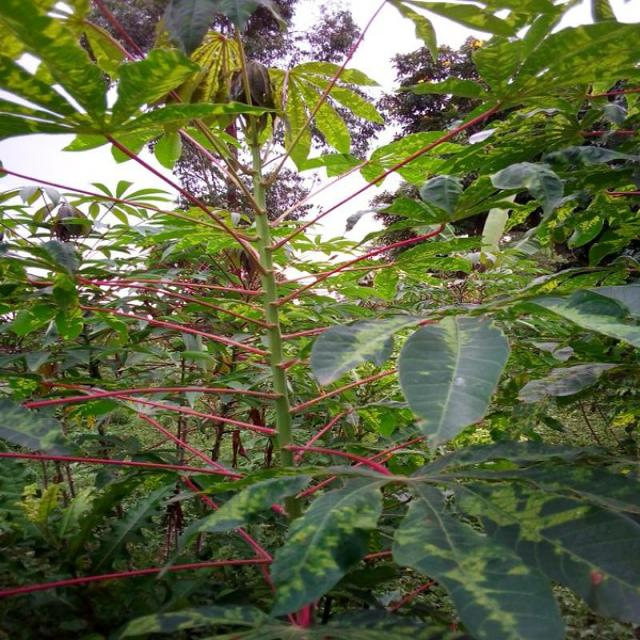cassava leaf: (268, 468, 386, 619), (398, 312, 512, 452), (311, 310, 424, 388)
